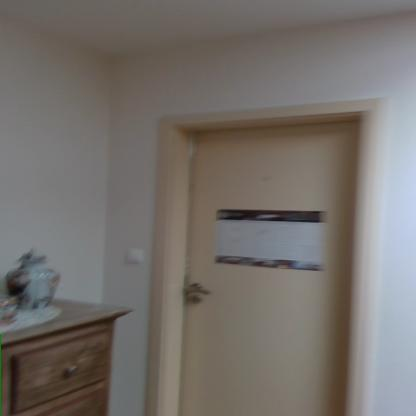closed: (149, 90, 392, 411)
